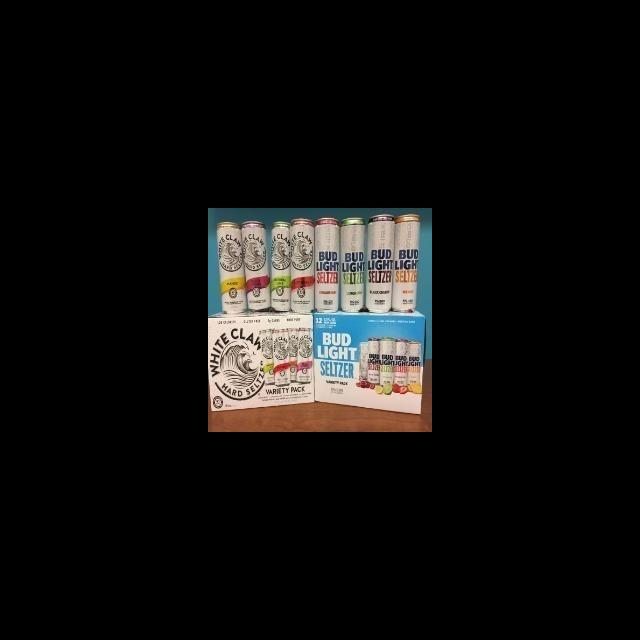metal: (213, 217, 248, 317), (239, 221, 271, 313), (288, 216, 318, 314), (393, 212, 420, 315), (340, 214, 366, 315), (314, 214, 339, 316), (367, 213, 392, 315), (269, 220, 292, 315)
